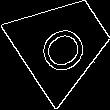O_NE: (31, 11, 95, 75)
